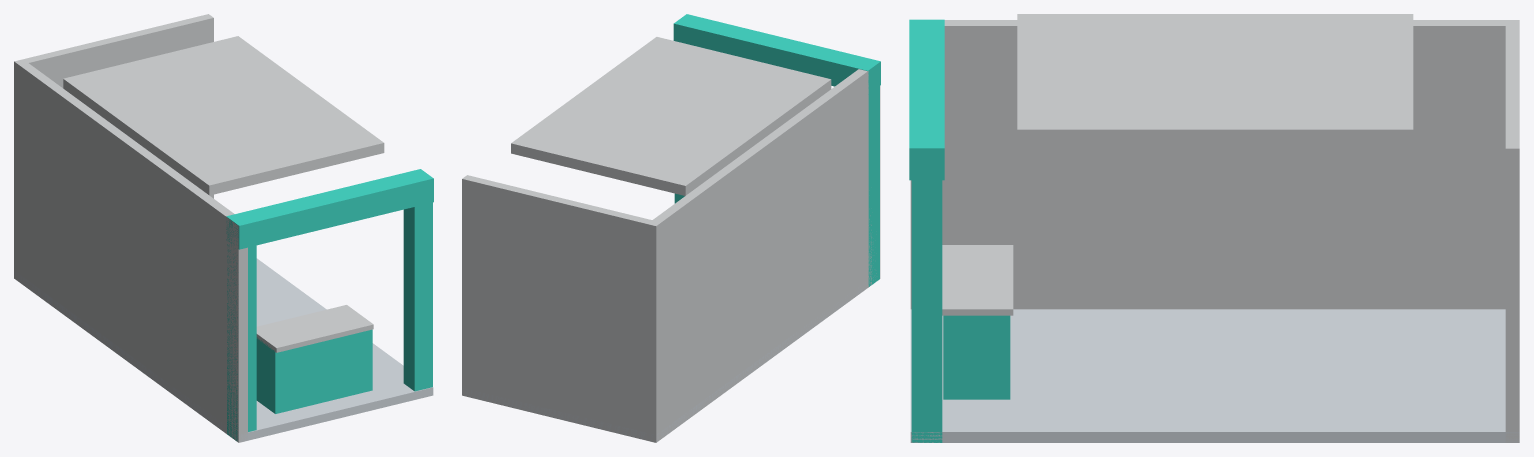
3 renders of one model, left to right at view 1: azimuth 30°, elevation 25°; view 2: azimuth 150°, elevation 25°; view 3: azimuth 270°, elevation 25°, orthographic. The views are drawn at different scales.
Parts seen in each view (by area): view 1: Exhibition Booth Concept; view 2: Exhibition Booth Concept; view 3: Exhibition Booth Concept.
Boxes of the visible parts, <box> form: Exhibition Booth Concept: <box>14,14,433,442</box>; Exhibition Booth Concept: <box>462,14,880,442</box>; Exhibition Booth Concept: <box>909,14,1519,442</box>.
Size of the model in its own units: 3 by 3.34 by 6.02.
